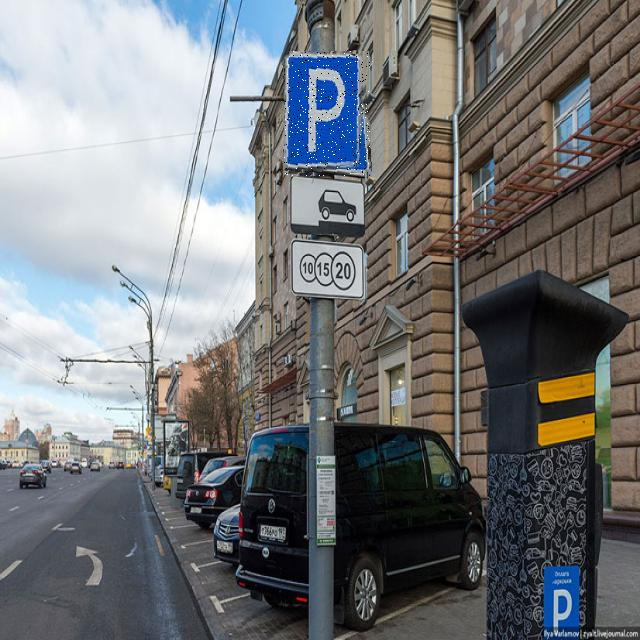parking: (284, 51, 370, 176)
